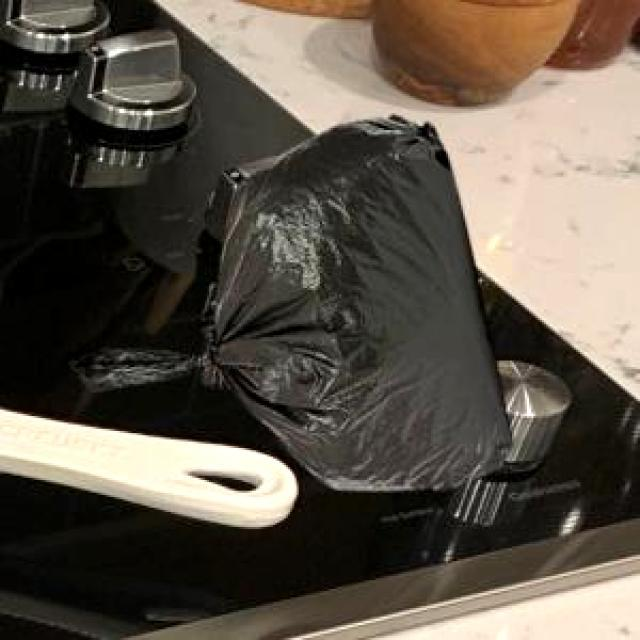Garbage_Bag: (67, 112, 509, 487)
